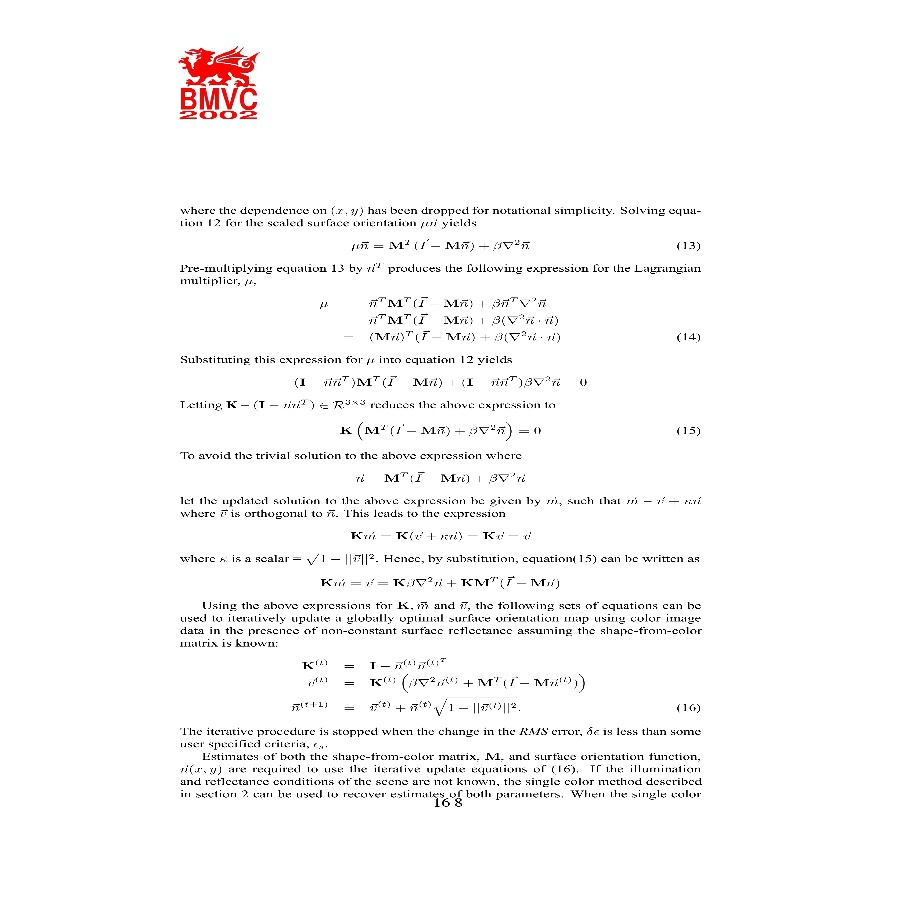eq: (316, 293, 569, 346), (294, 371, 593, 391), (337, 418, 553, 445), (303, 673, 588, 693), (317, 573, 567, 593), (291, 698, 526, 718), (349, 526, 542, 545), (353, 469, 531, 488), (346, 236, 533, 254), (300, 652, 450, 670)
